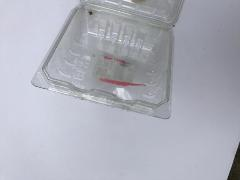plastic: (11, 0, 203, 138)
